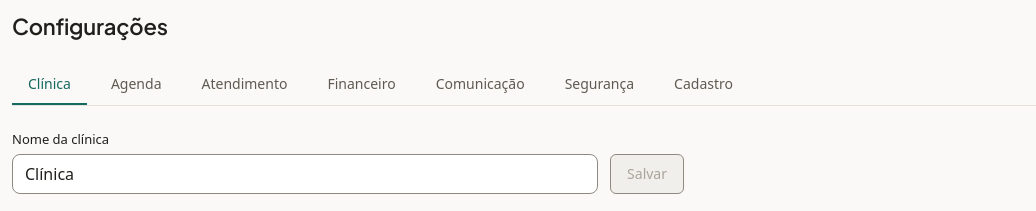
Test: PaginaConfiguracoes — abas por grupo › NÃO deve pôr subtítulo na aba de assunto único
Click the tab "Agenda" at {"x": 136, "y": 85}, box [95,65,178,105]
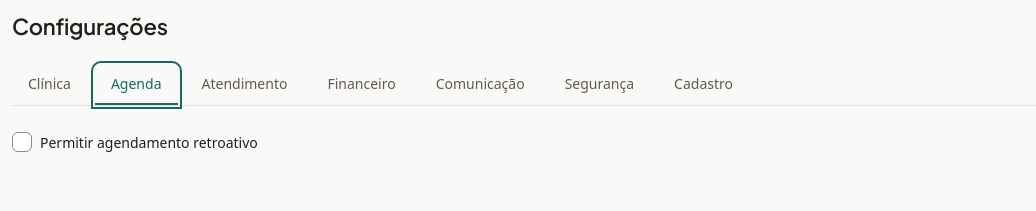
Result: the checkbox named "Permitir agendamento retroativo" is shown at [12,132,32,152]
